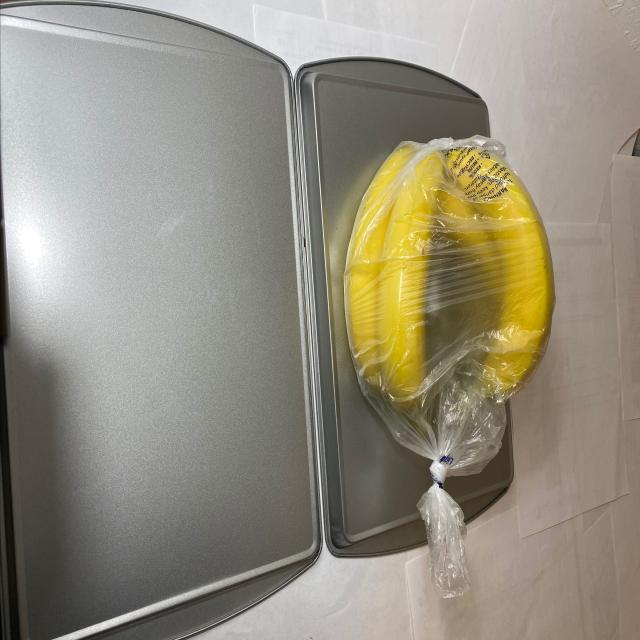banana: (339, 106, 560, 446)
